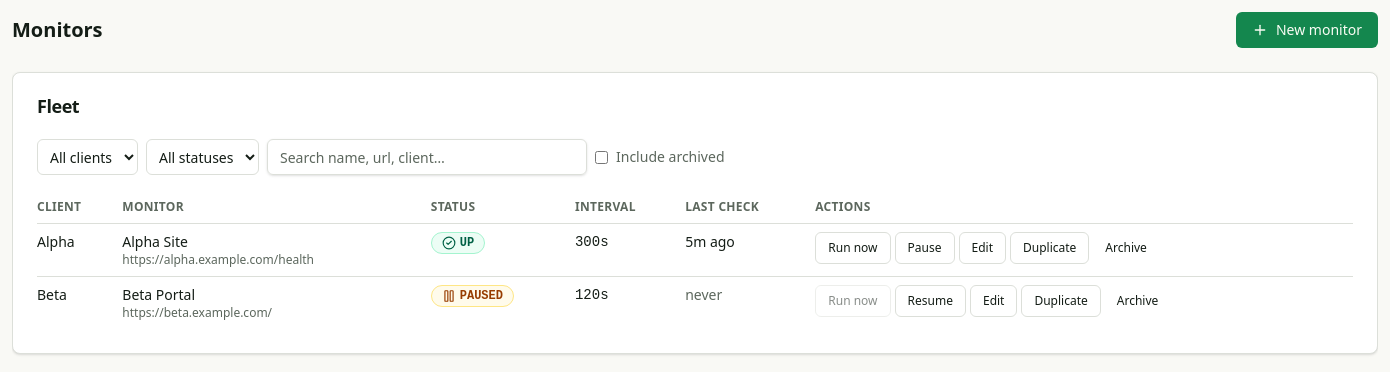
Test: MonitorsPage list (PRD §27.4) › filters by status and free-text search (name/url/client)
The width and height of the screenshot is (1390, 372).
Check: the link "Alpha Site" is shown, box [122,232,188,251]
Select "Paused" in the 2nd dropdown named "Filter by status" at point(202, 157), box [146,139,259,175]
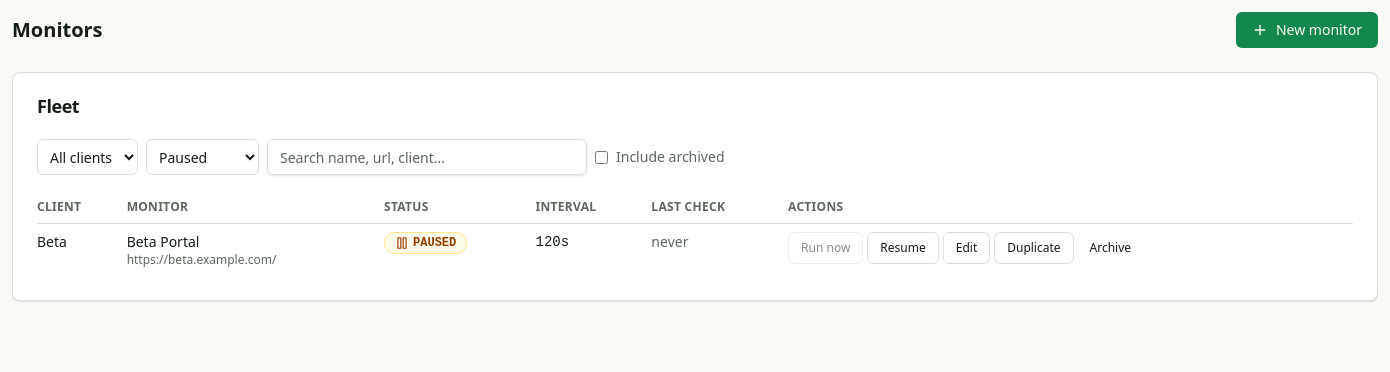
Check: the link "Beta Portal" is shown, box [127,232,199,251]
Check: the link "Alpha Site" is gone
Select "All statuses" in the 2nd dropdown named "Filter by status" at point(202, 157), box [146,139,259,175]
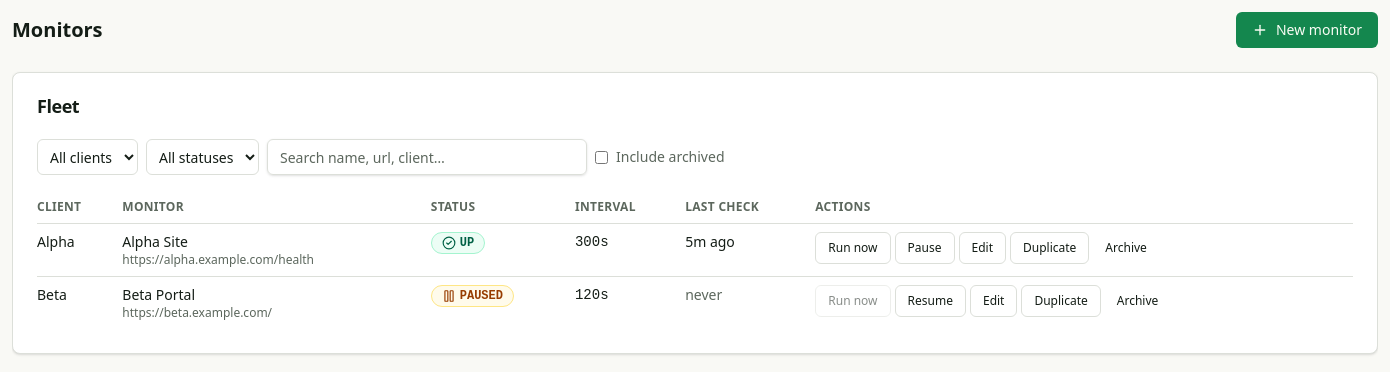
Type "beta.example" into the search field named "Search monitors" at point(427, 157), box [267,139,587,175]
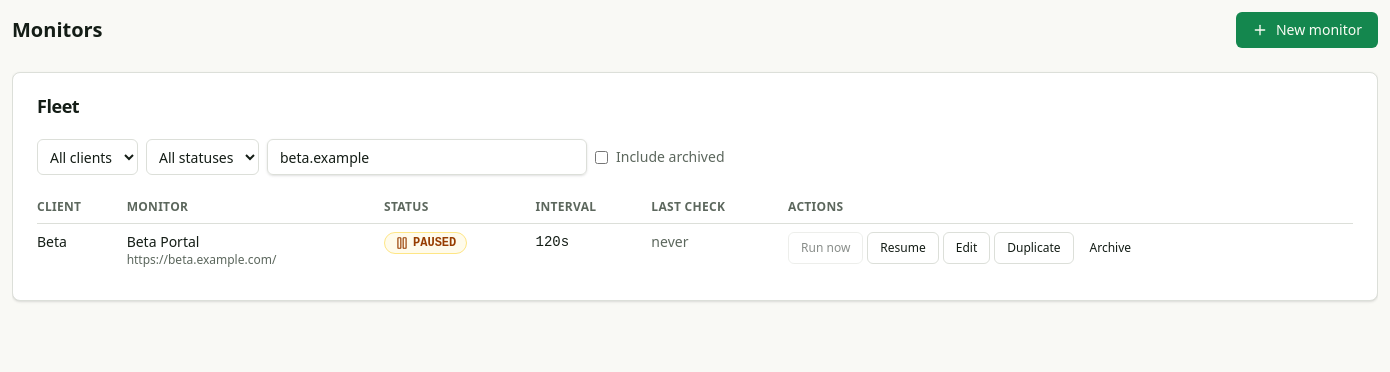
Check: the link "Beta Portal" is shown, box [127,232,199,251]
Check: the link "Alpha Site" is gone
